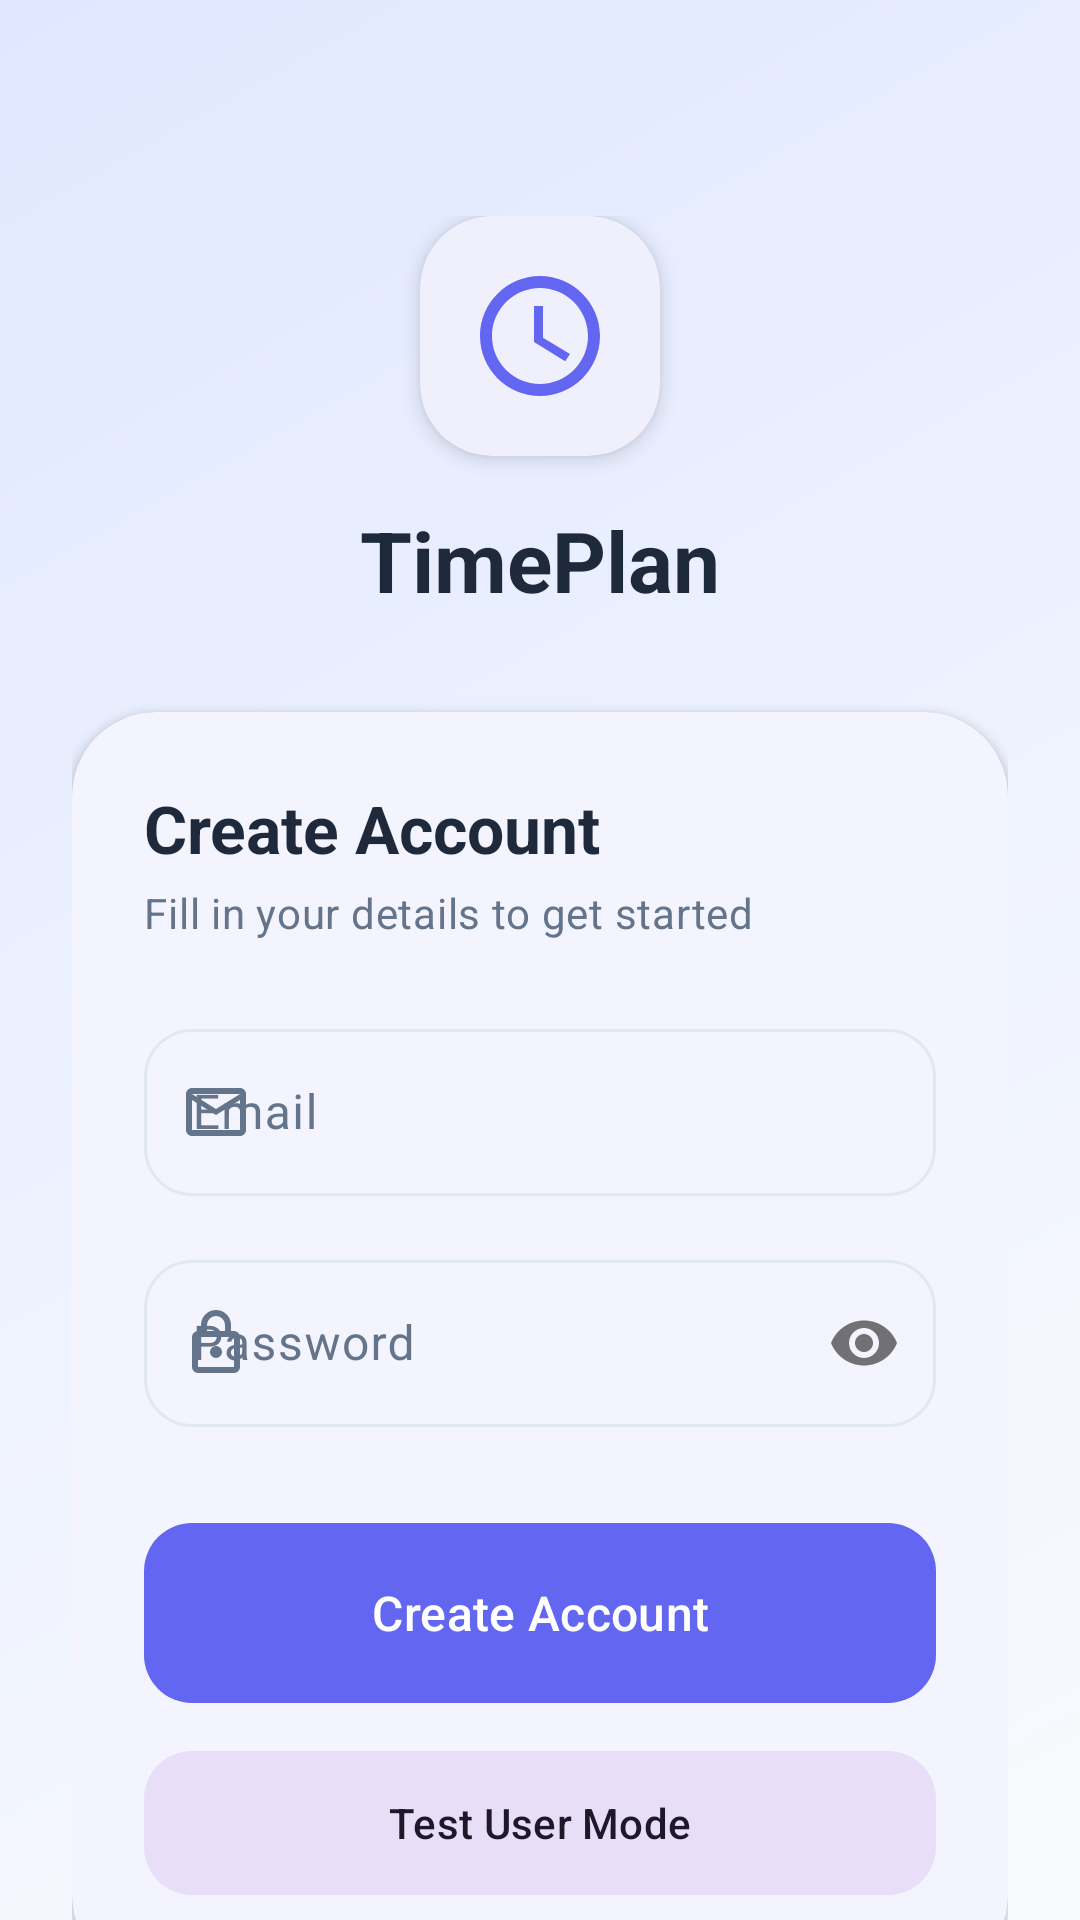

Locate icon controls on the screen. Image size 1080 x 1920, boxes as (x1, y1, x2, y2).
clock: (420, 216, 660, 456)
